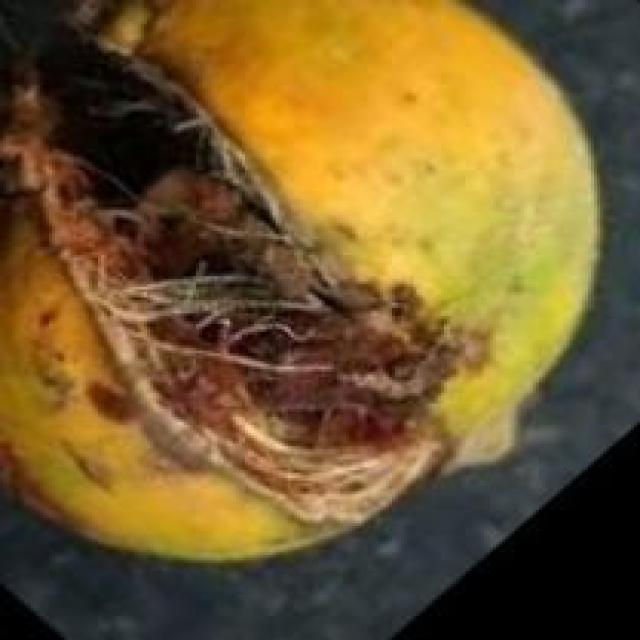damaged: (0, 0, 594, 560)
